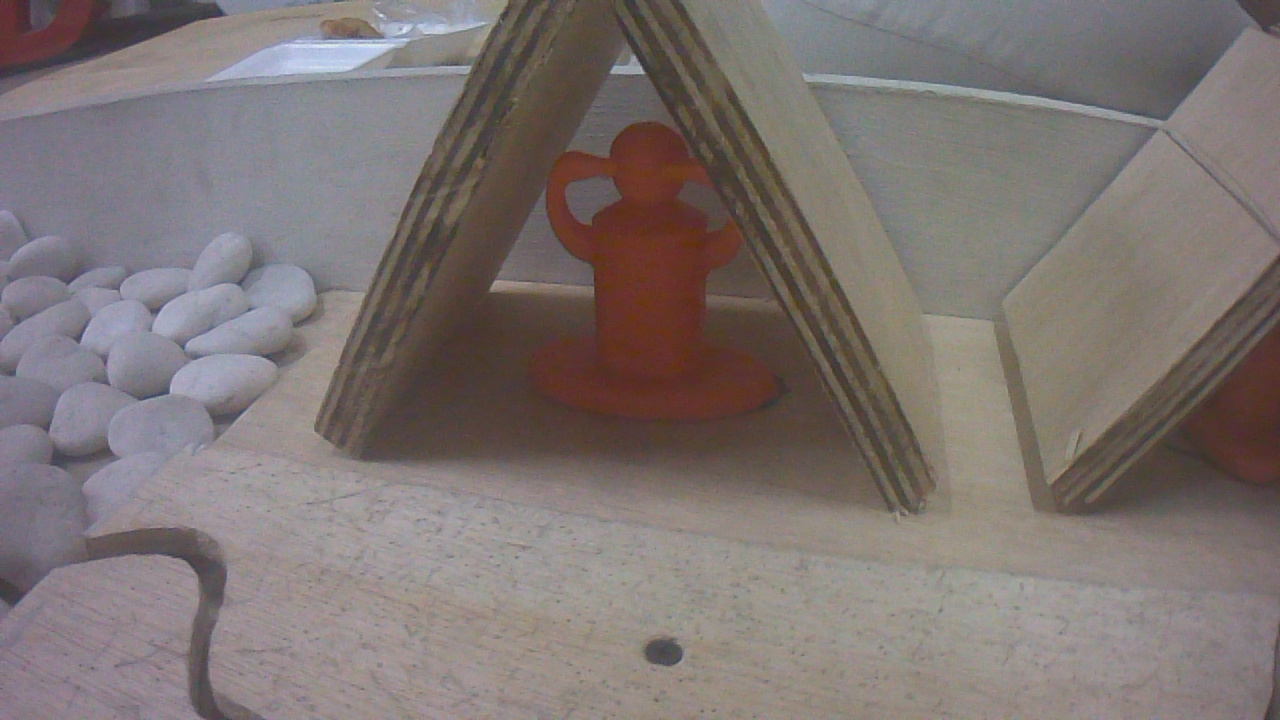real: (531, 118, 773, 417)
